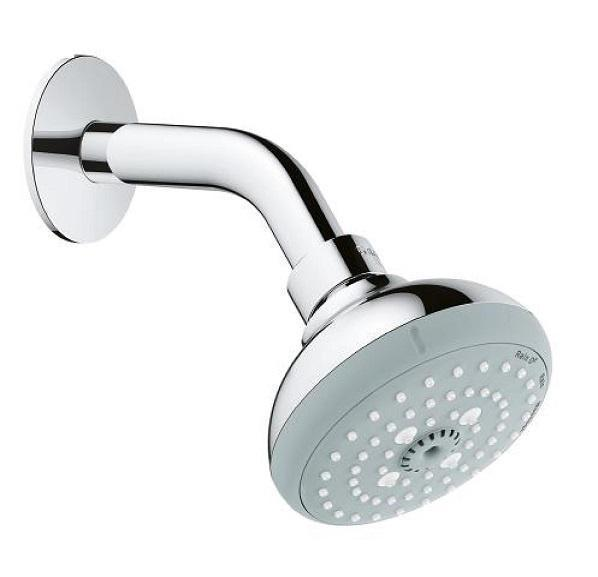Ducha: (16, 26, 525, 544)
